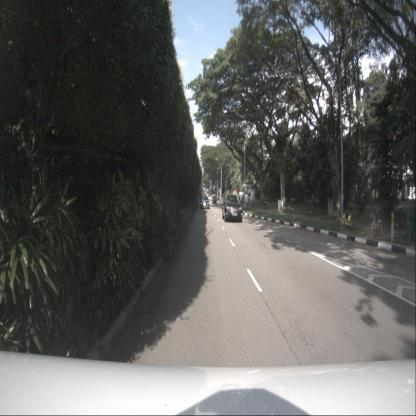human-pedestrian-adult: (358, 196, 364, 213)
vehicle-bicycle: (368, 208, 383, 237), (335, 205, 352, 229), (339, 208, 354, 231)
vehicle-car: (222, 194, 243, 222), (200, 195, 210, 209), (212, 195, 218, 204)
